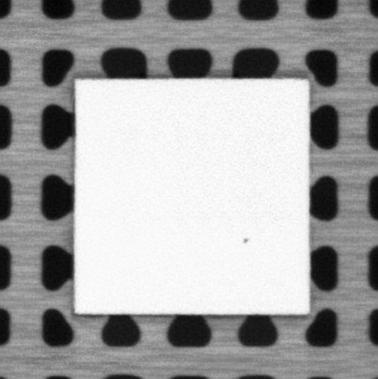DIE_INK: (239, 235, 252, 244)
